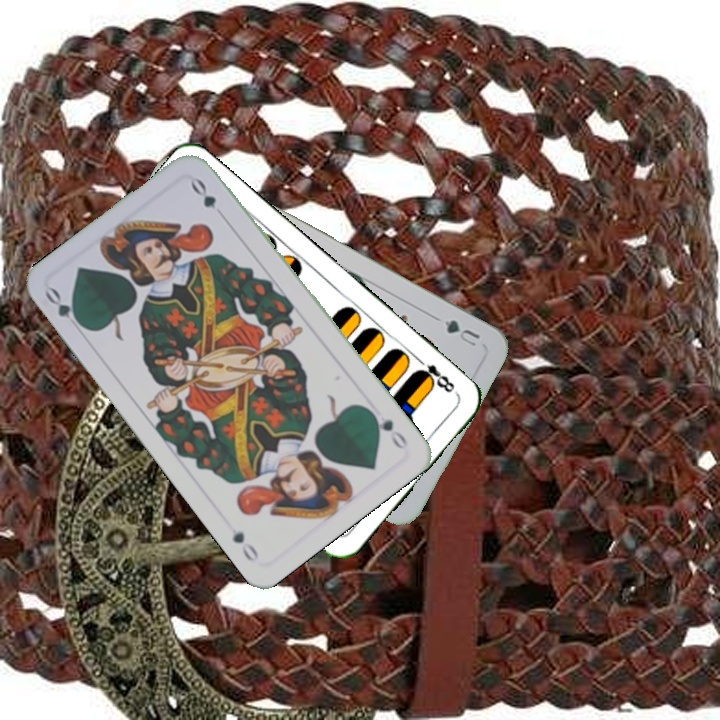E8: (411, 353, 460, 397)
GO: (41, 283, 89, 336), (365, 405, 411, 453)
GU: (439, 315, 483, 349)
